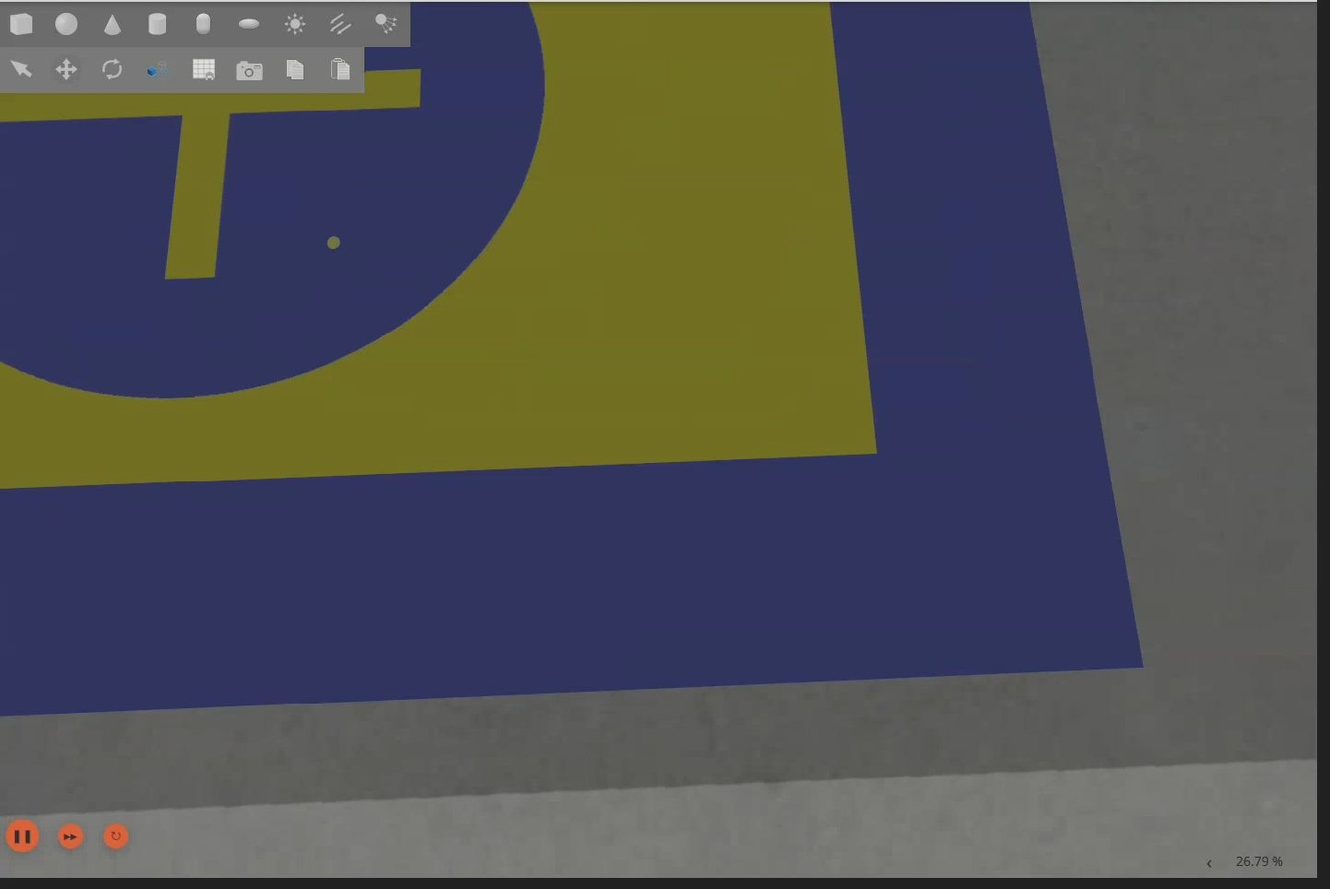large_base: (1, 1, 1146, 717)
